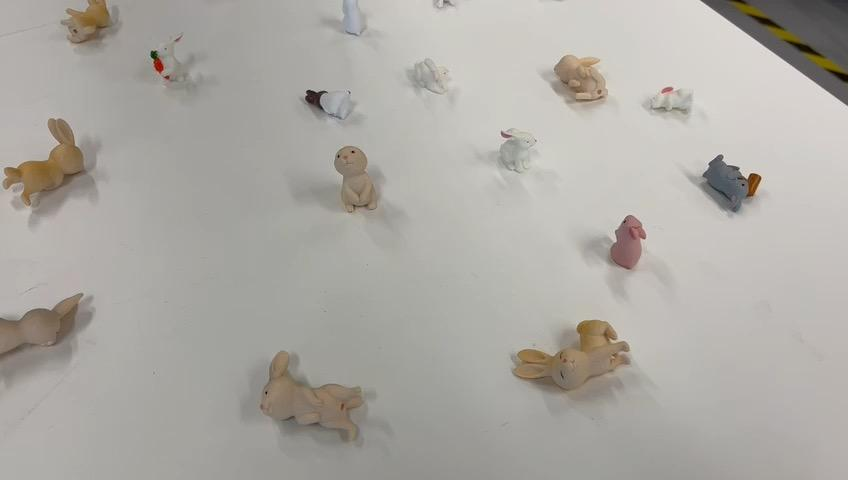pet: (256, 328, 396, 456), (508, 303, 631, 414), (0, 113, 116, 220), (0, 280, 94, 380), (326, 143, 412, 238), (693, 143, 775, 226), (586, 205, 662, 291), (543, 35, 617, 115), (293, 70, 384, 131), (151, 18, 203, 99), (498, 115, 555, 187), (48, 3, 140, 46), (401, 40, 458, 106), (641, 70, 705, 126), (328, 3, 391, 44)
